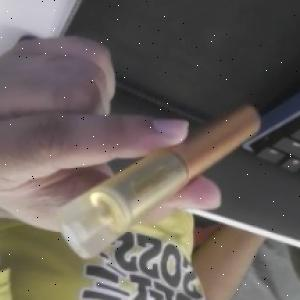Golden-E-Ciggirate: (54, 102, 262, 260)
